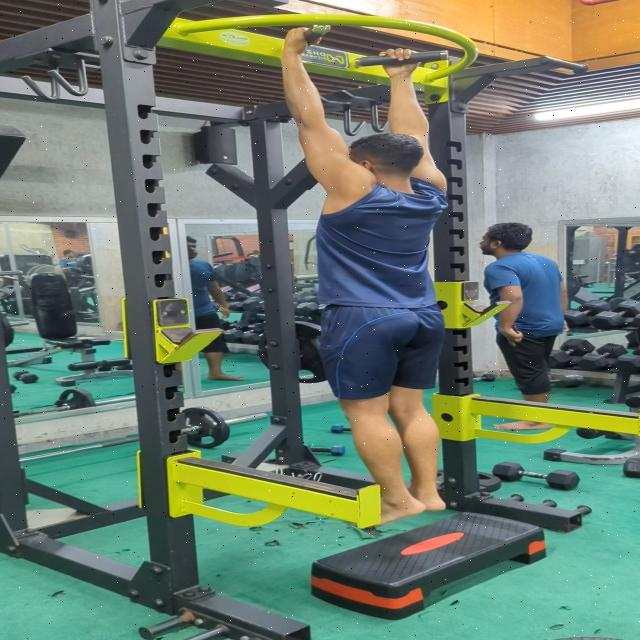Normal_PullUps: (277, 25, 460, 529)
